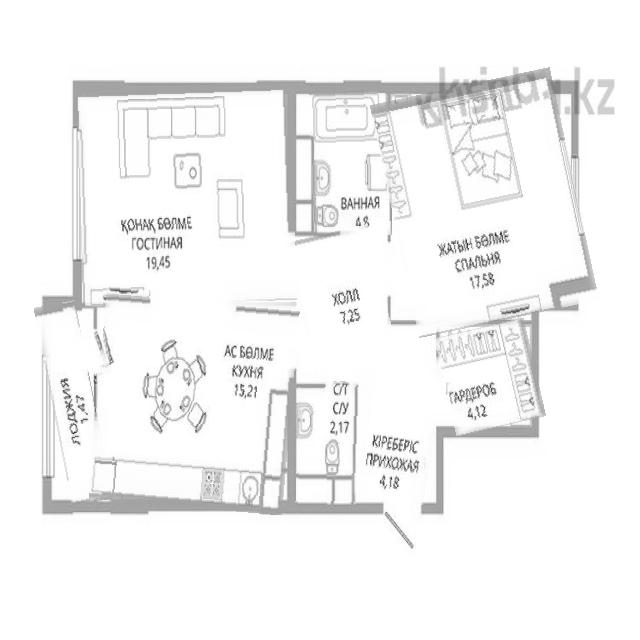bathroom: (310, 92, 391, 236), (296, 381, 359, 506)
hallway: (354, 350, 441, 502), (44, 302, 104, 506), (291, 228, 388, 350)
kitchen: (94, 290, 296, 511)
living_room: (382, 76, 588, 330), (78, 84, 296, 306)
other: (439, 322, 541, 432)
